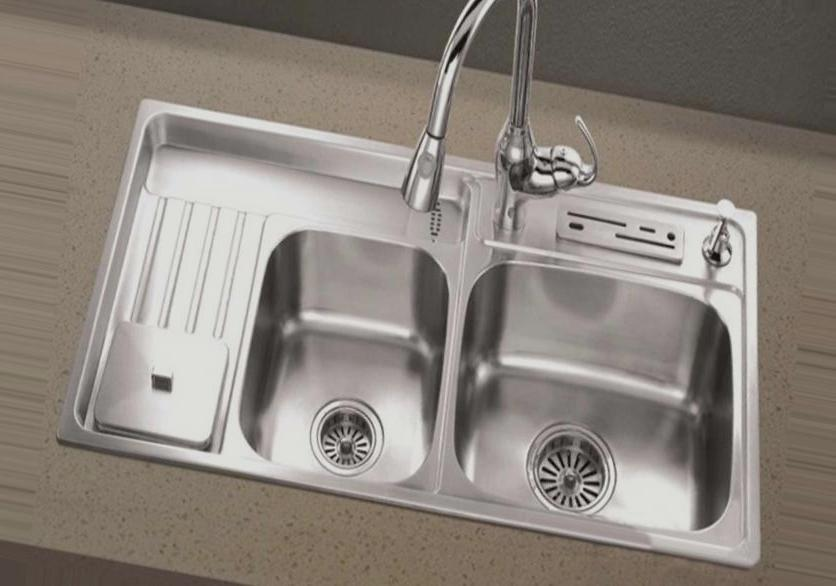Lavaplatos: (34, 2, 773, 563)
